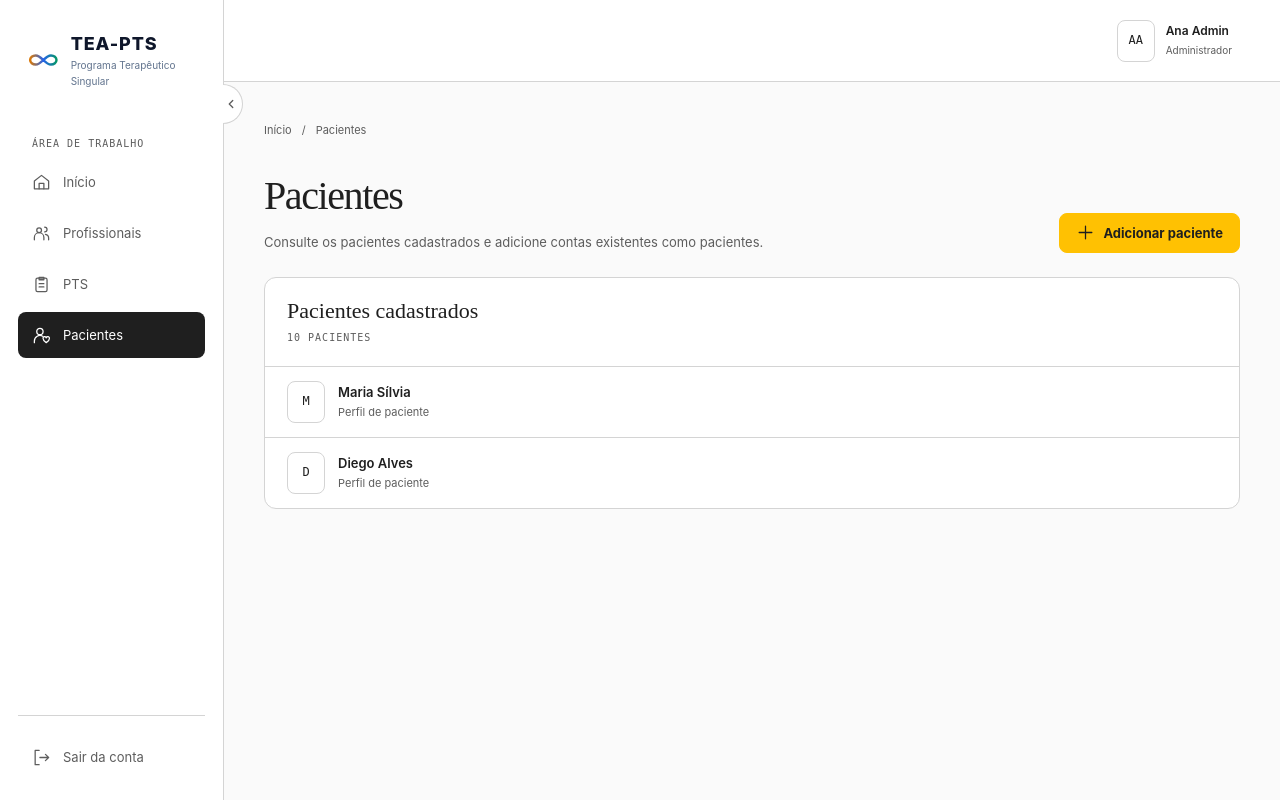
PatientsPage › modal "Adicionar paciente" › explica a conta e os contatos em tooltips de ajuda
Click the button "Adicionar paciente".
click(1150, 233)  # box [1060,213,1240,253]
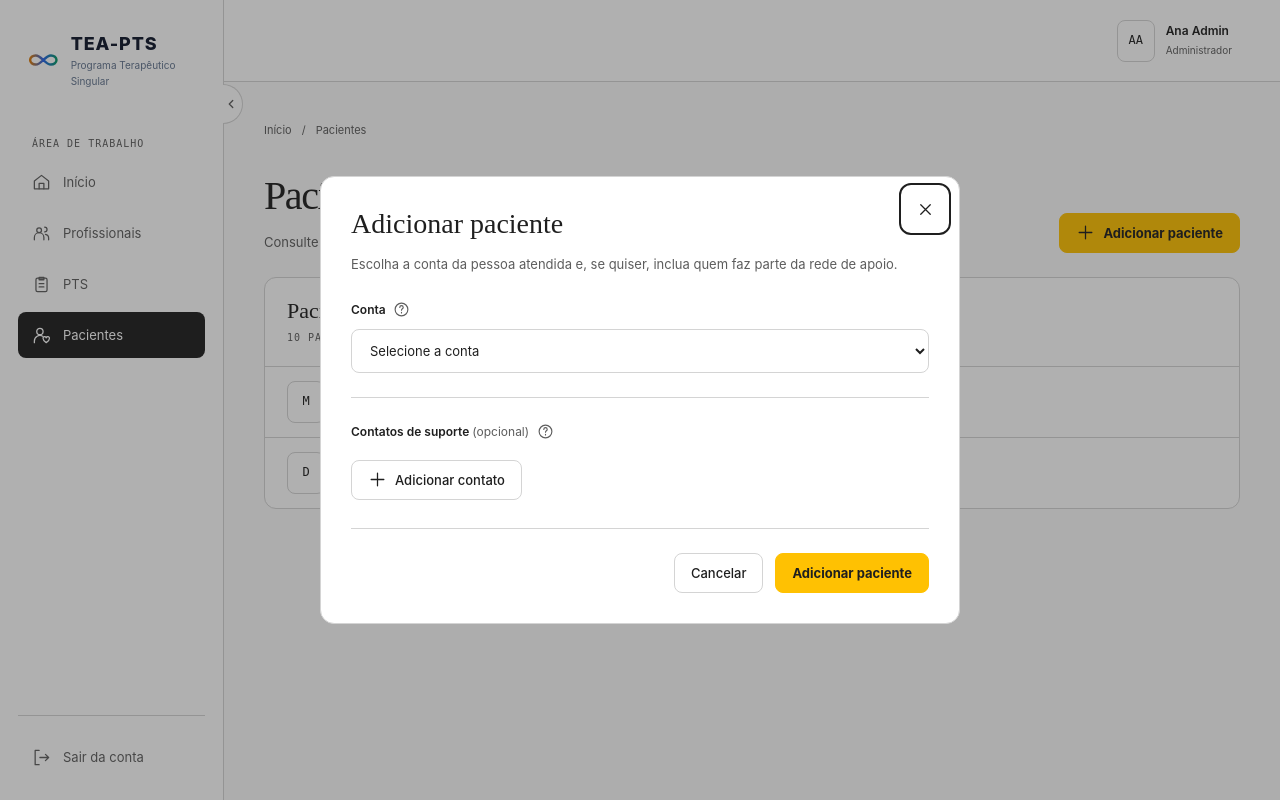
Expected: the dropdown labelled "Conta" is enabled, [351,329,929,373]
Click the button named "Ajuda: Conta".
click(402, 310)  # box [390,298,414,322]
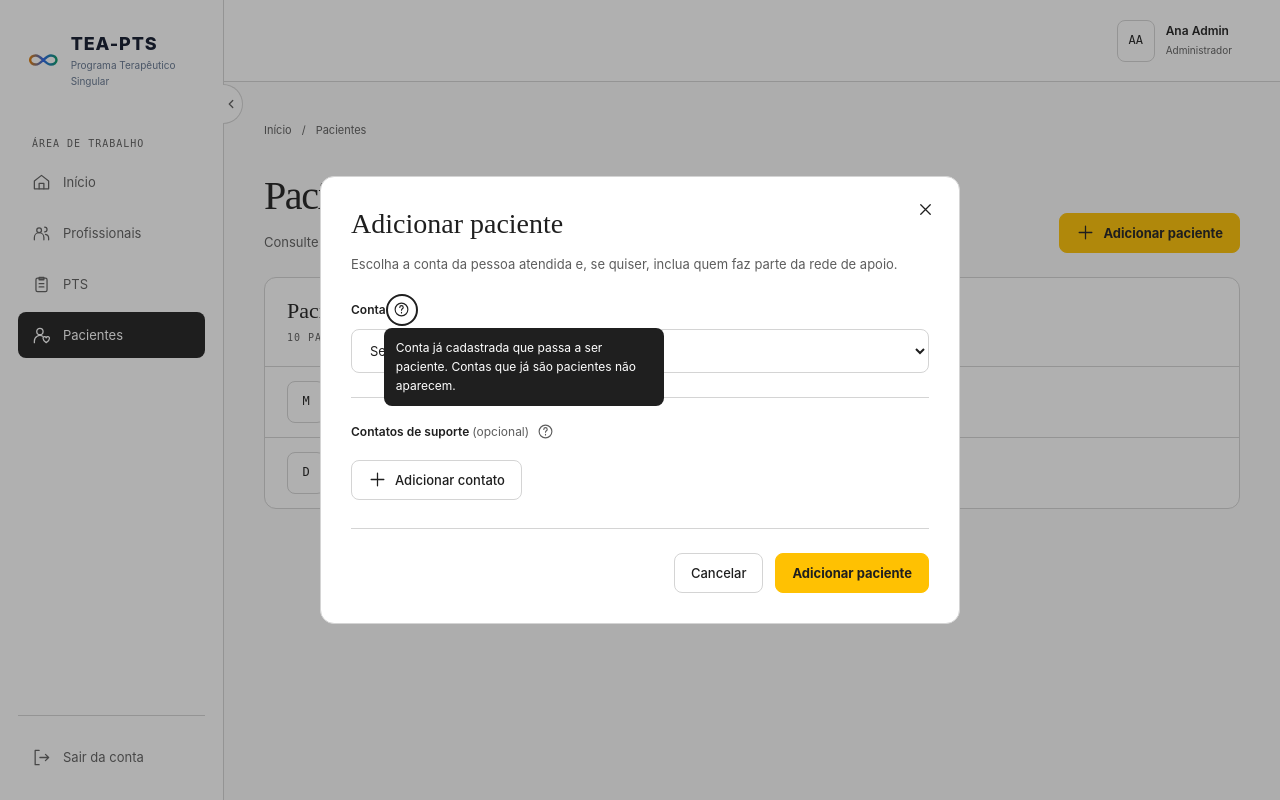
Expected: the button named "Ajuda: Conta" is expanded, [390,298,414,322]
Press Escape
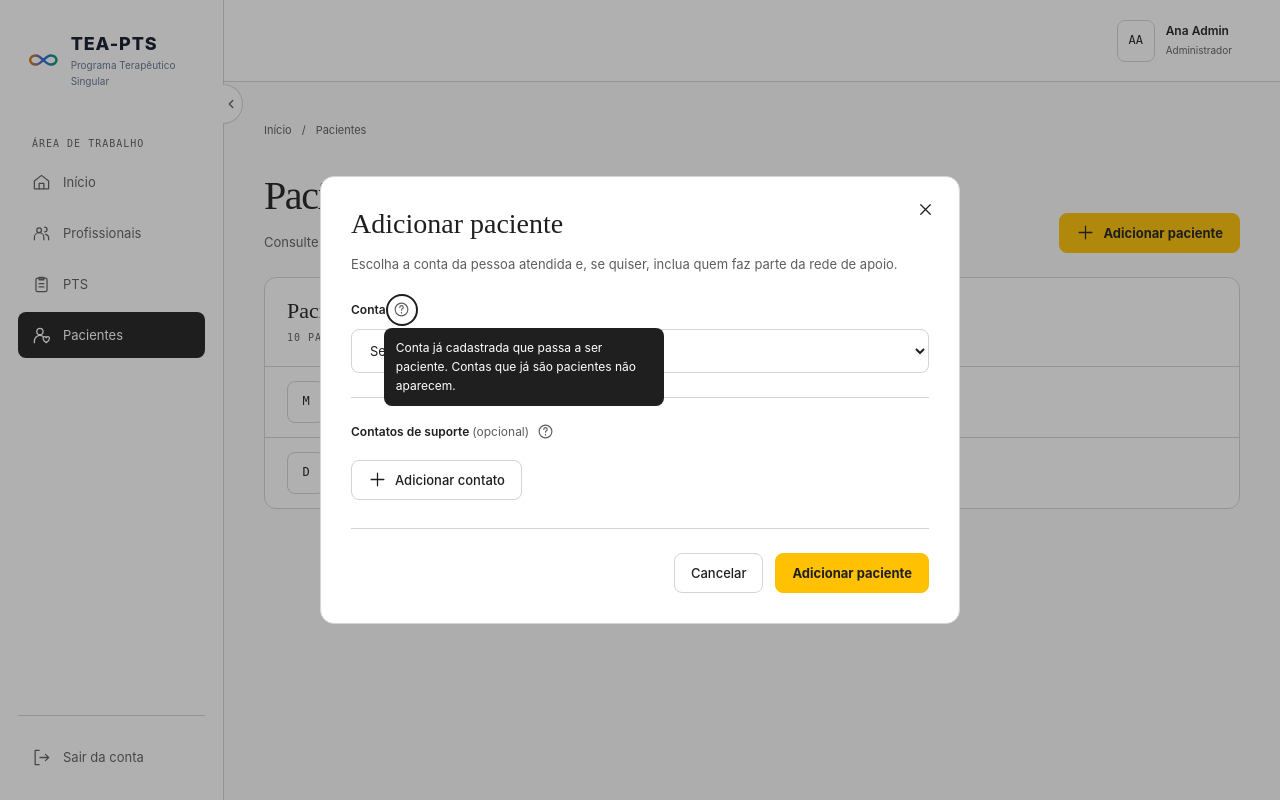
Expected: the dialog is shown, [320,176,960,624]
Expected: the button named "Ajuda: Conta" is collapsed, [390,298,414,322]
